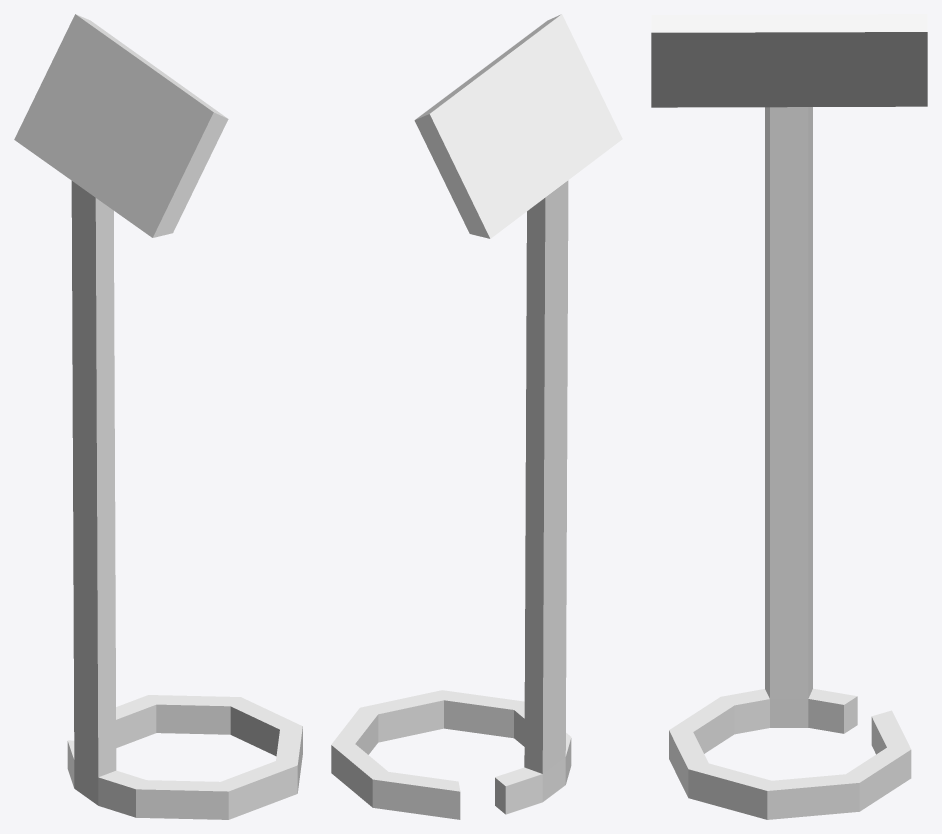
Rendered from InfoStand_Mesh.fbx.
3 views of the same model, side by side, from view 1: azimuth 30°, elevation 25°; view 2: azimuth 150°, elevation 25°; view 3: azimuth 270°, elevation 25° (orthographic). The views are drawn at different scales.
Visible parts, largest first — view 1: InfoStand; view 2: InfoStand; view 3: InfoStand.
Part boxes in pixels (x1,y1,x2,y2): InfoStand: [14, 14, 302, 819]; InfoStand: [331, 14, 622, 819]; InfoStand: [651, 14, 927, 819].
Bounding box in the file's own units: 58.05 × 190 × 65.03.
